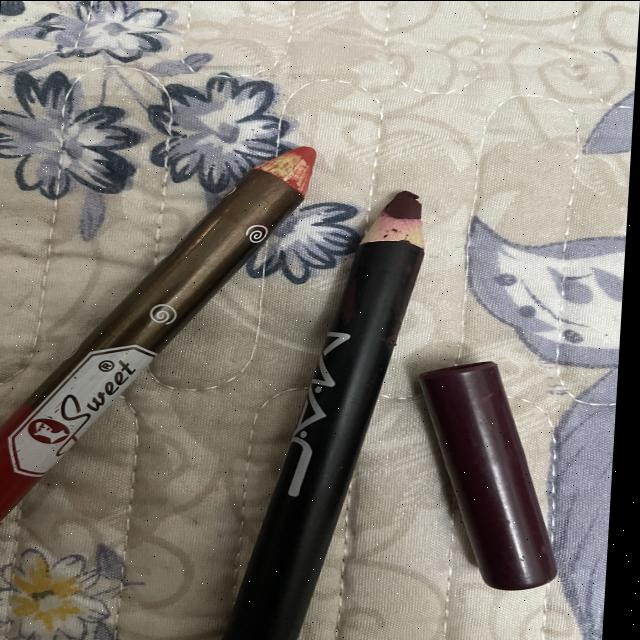lip liner: (0, 142, 449, 640)
